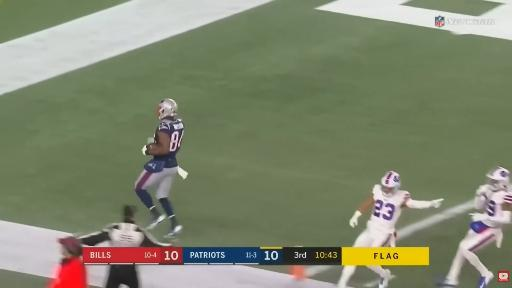Helmet: (486, 167, 509, 191), (381, 172, 400, 195), (158, 99, 177, 119)
Jersey: (368, 185, 410, 233), (154, 119, 184, 167), (485, 190, 511, 216)
Player: (437, 167, 511, 287), (350, 172, 443, 247), (135, 99, 184, 237)
